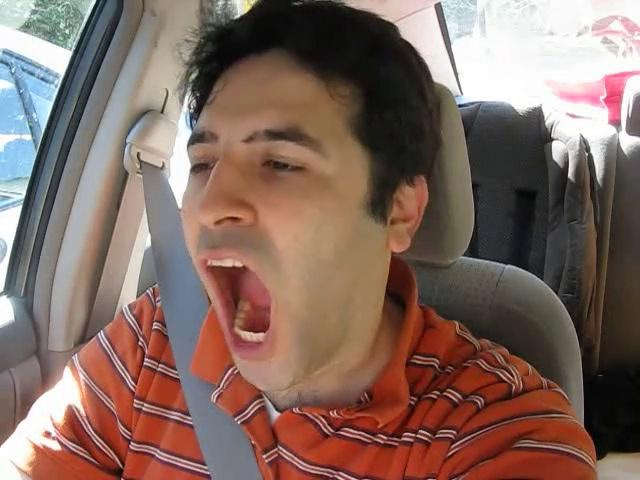close_eyeL: (183, 145, 227, 185)
close_eyeR: (243, 141, 329, 191)
yawn: (181, 244, 296, 360)
